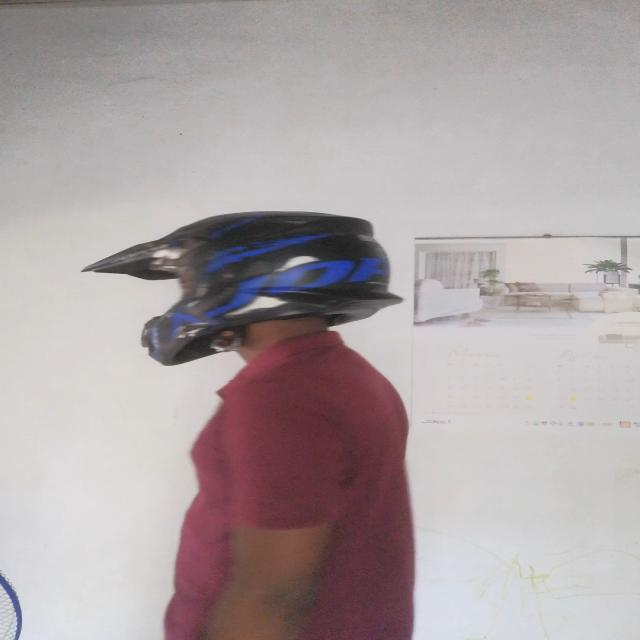Helmet_Wearer: (71, 203, 418, 379)
Person: (163, 210, 434, 640)
